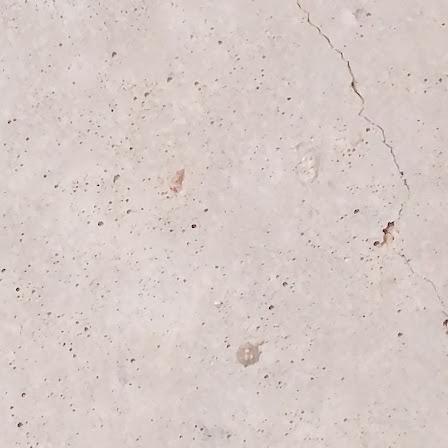crack: (293, 0, 448, 335)
spalling: (165, 166, 187, 197)
